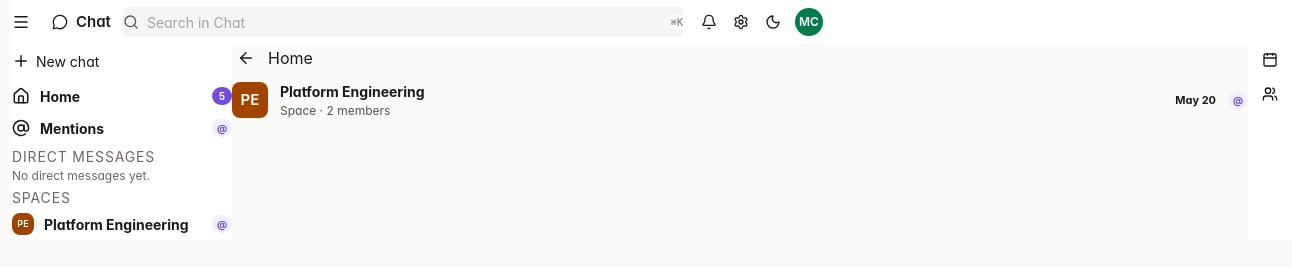
Test case: ChatShell › disables posting in announcement spaces for ordinary members
This screenshot has width=1292, height=267.
Click the button "PE Platform Engineering @" at (122, 224), box [12,208,232,240]
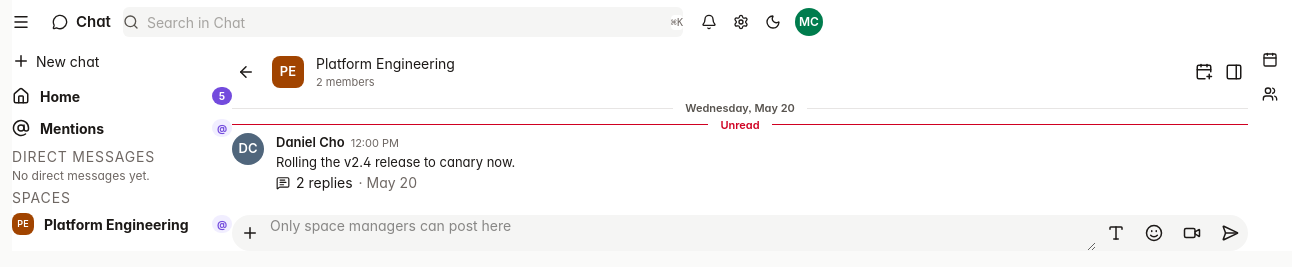
Expected: the text box with class "chat-composer-input" is disabled, [270,214,1096,250]
